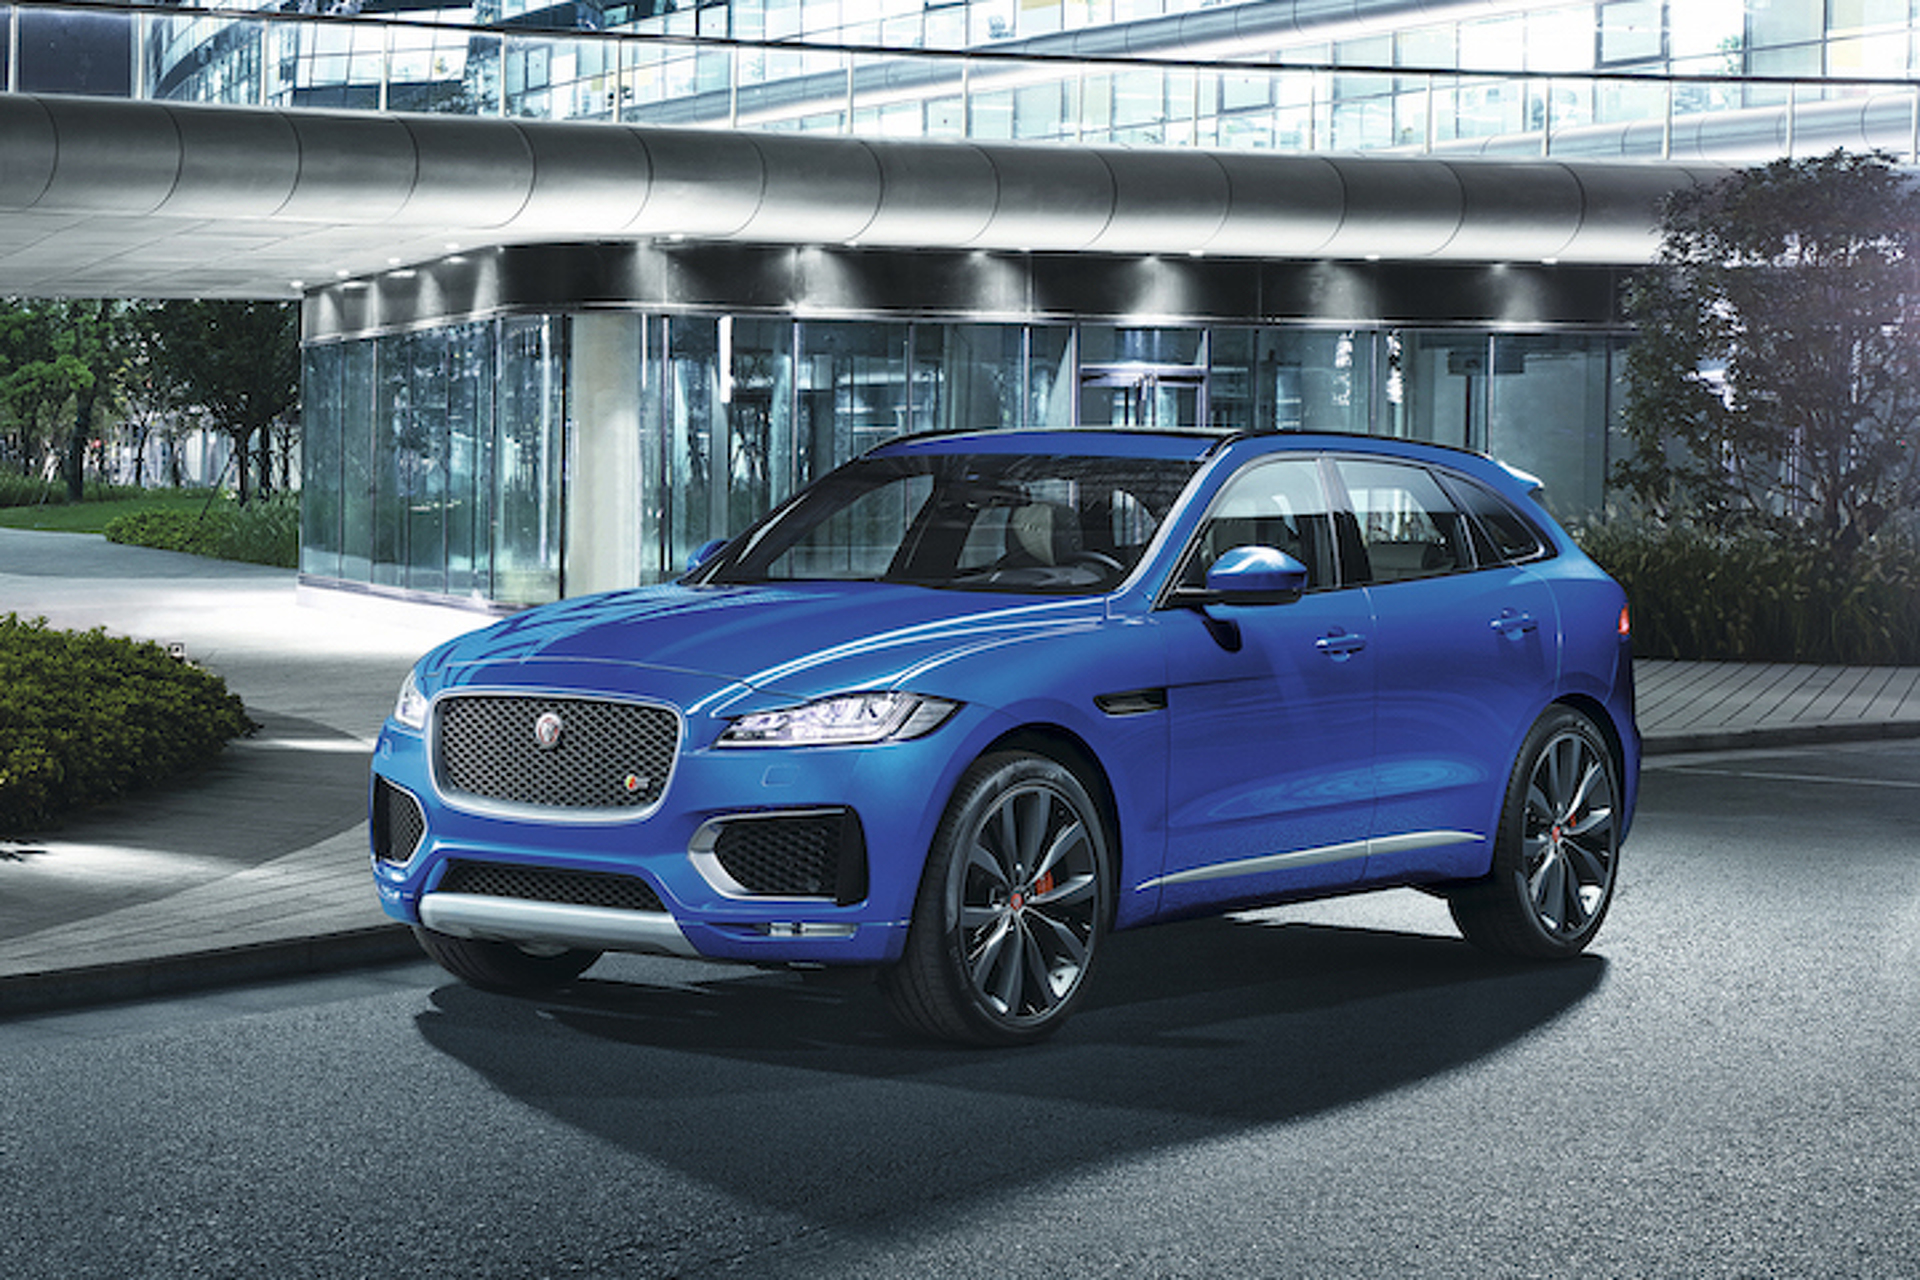car: (327, 374, 1711, 1114)
